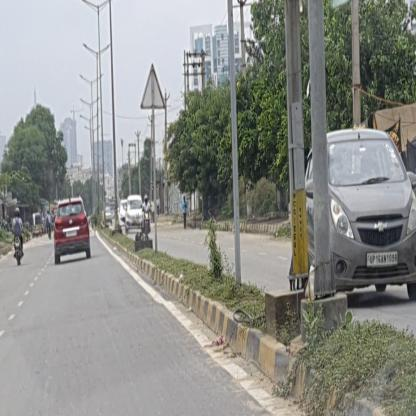car: (305, 126, 416, 304), (53, 198, 90, 263), (125, 194, 144, 234), (118, 198, 128, 226)
motorcycle: (12, 209, 26, 266), (140, 194, 152, 237), (46, 210, 52, 240)
